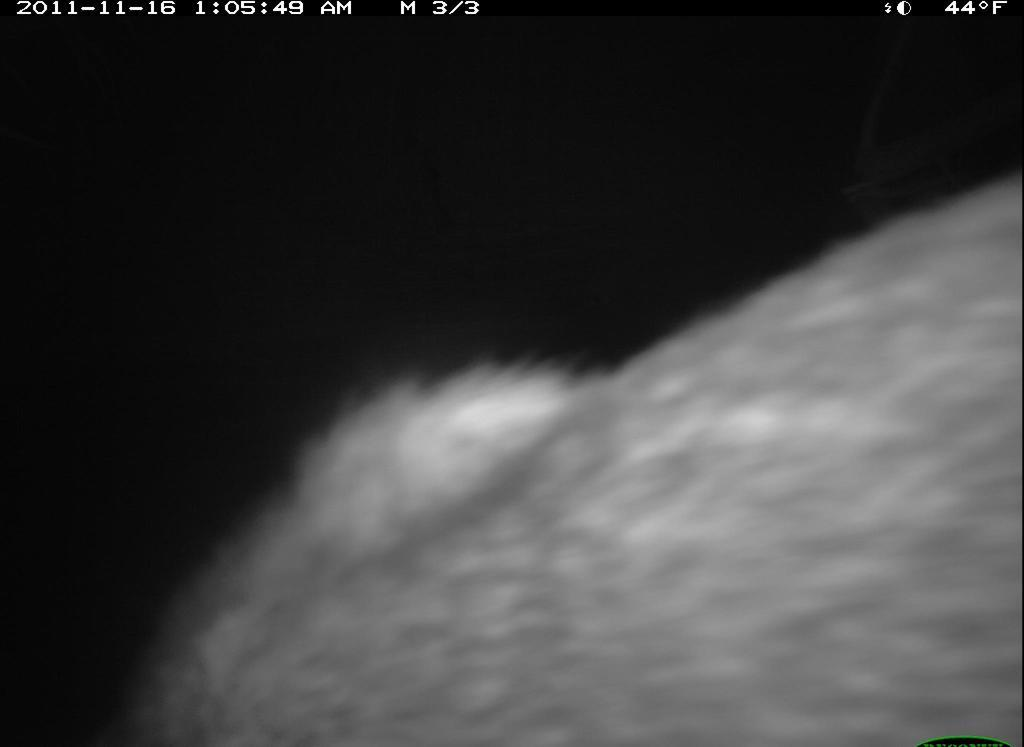raccoon: (109, 143, 1022, 747)
